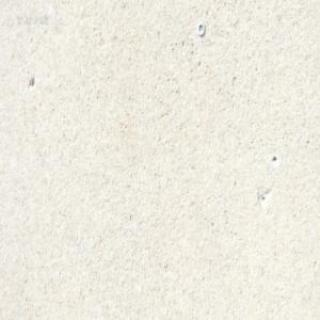Washertrack_idkeyframe: (196, 22, 204, 36)
